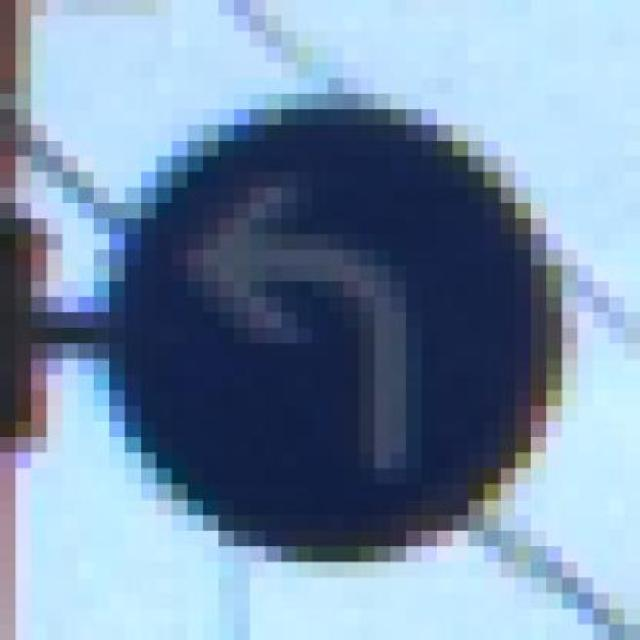Turn left ahead: (108, 62, 560, 562)
